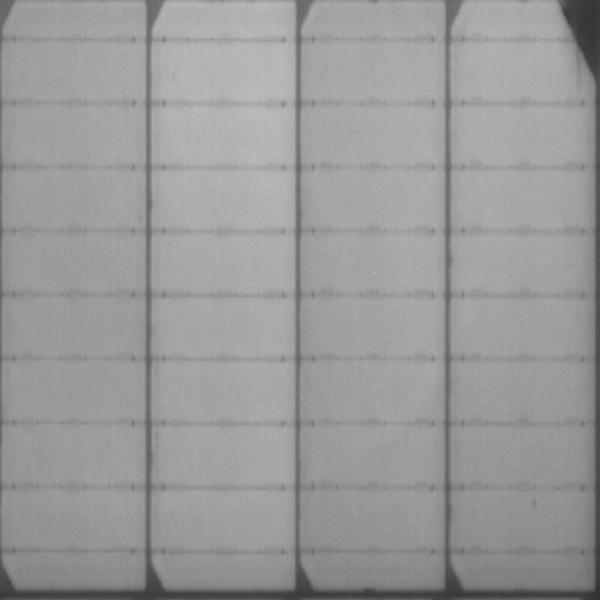broken: (556, 1, 599, 83)
